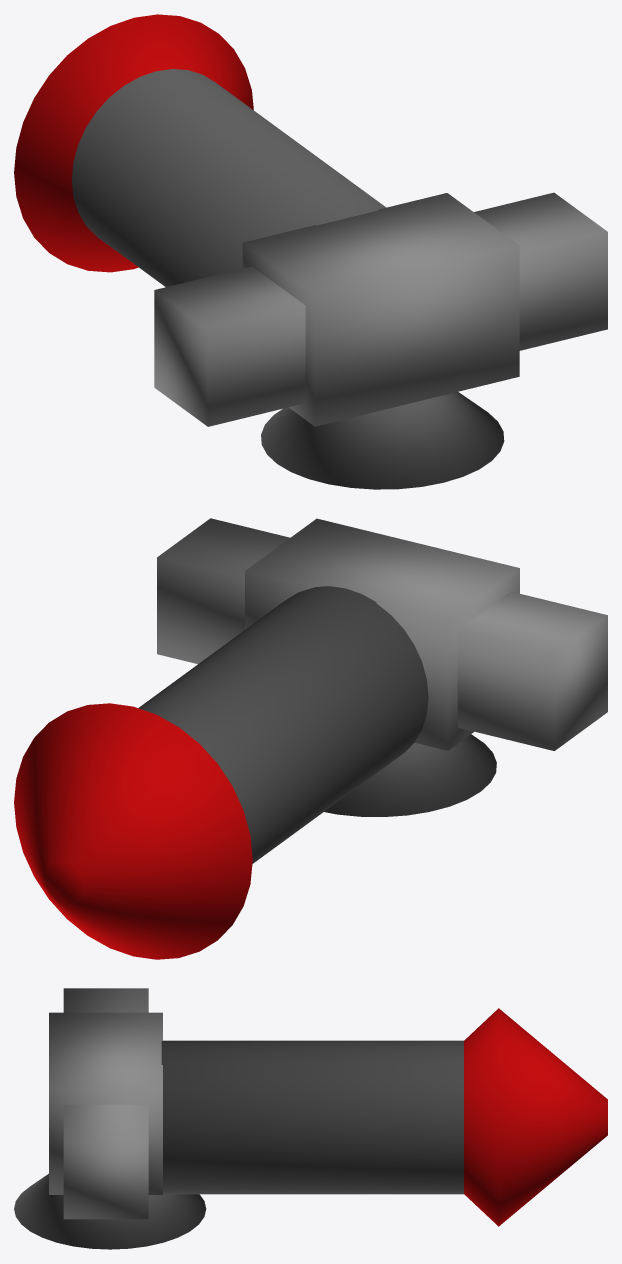
Rendered from spacegun.fbx.
3 views of the same model, one above another, from view 1: azimuth 30°, elevation 25°; view 2: azimuth 150°, elevation 25°; view 3: azimuth 270°, elevation 25° (orthographic). The views are drawn at different scales.
Parts seen in each view (by area): view 1: Cube; view 2: Cube; view 3: Cube.
Boxes of the visible parts, left/top/right/bottom form: Cube: left=14, top=14, right=607, bottom=489; Cube: left=14, top=518, right=607, bottom=959; Cube: left=14, top=988, right=607, bottom=1249.
Bounding box in the file's own units: 2.19 × 1.31 × 3.57.
